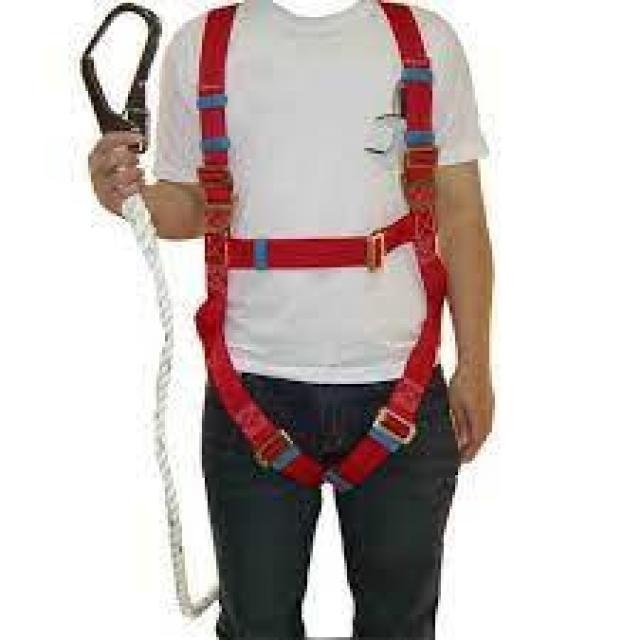Arnes_seguridad: (197, 2, 450, 494)
